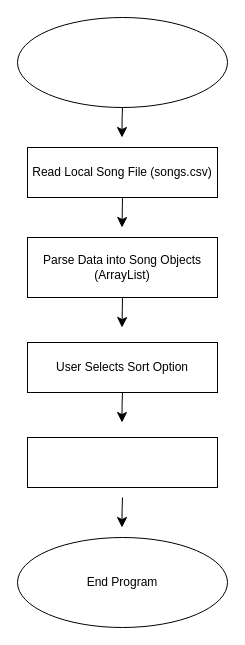
This 245x645 diagram has some shape labels left out. Here are the shapes that lost their labels. From the top down, the box of each, then its label:
(16, 16, 228, 108): Start Program (Main.java)
(26, 436, 218, 488): Output Sorted Playlist to Terminal
